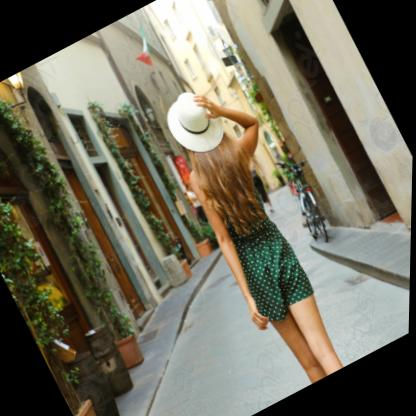Nightstand: (145, 69, 382, 393)
